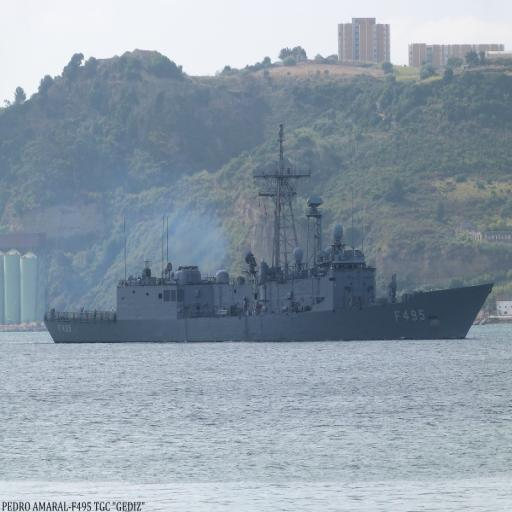Fragata: (43, 126, 499, 347)
